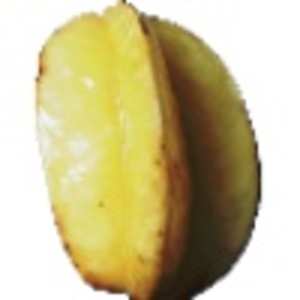carambola: (32, 1, 263, 300)
